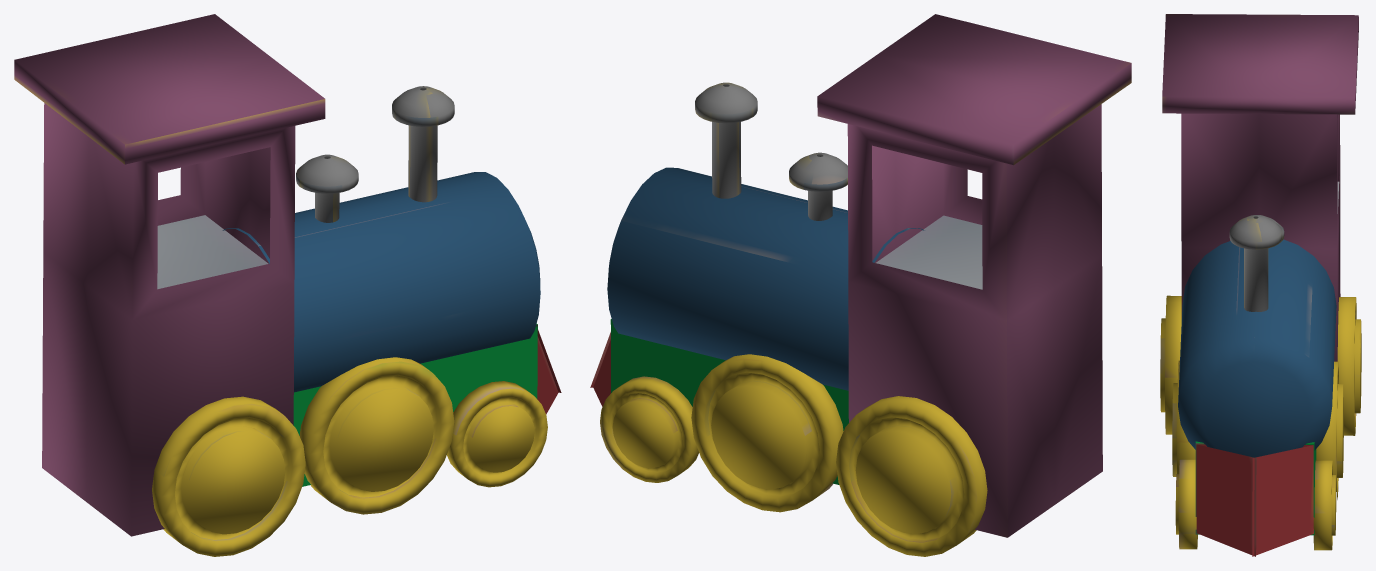
Rendered from Toy-Train.fbx.
3 renders of one model, left to right at view 1: azimuth 30°, elevation 25°; view 2: azimuth 150°, elevation 25°; view 3: azimuth 270°, elevation 25°, orthographic. The views are drawn at different scales.
Parts seen in each view (by area): view 1: Train; view 2: Train; view 3: Train.
Part boxes in pixels (<box>): Train: <box>14,14,561,556</box>; Train: <box>590,14,1131,556</box>; Train: <box>1160,14,1361,556</box>.
Bounding box in the file's own units: 49.04 × 42.43 × 20.73.
Materials: 1 (1 with a texture image).
